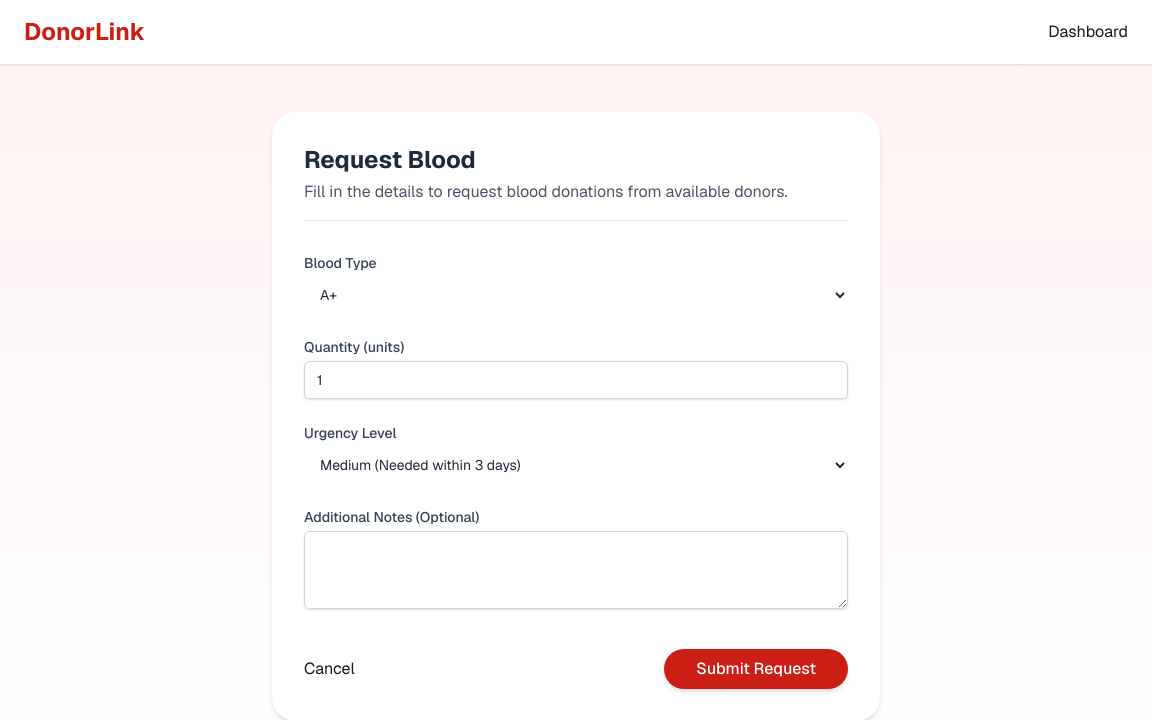
Scenario: RequestBloodPage › handles missing user fields
# Submit the form
Step 1. Click the button "Submit Request" → (756, 669), box [664,649,848,689]
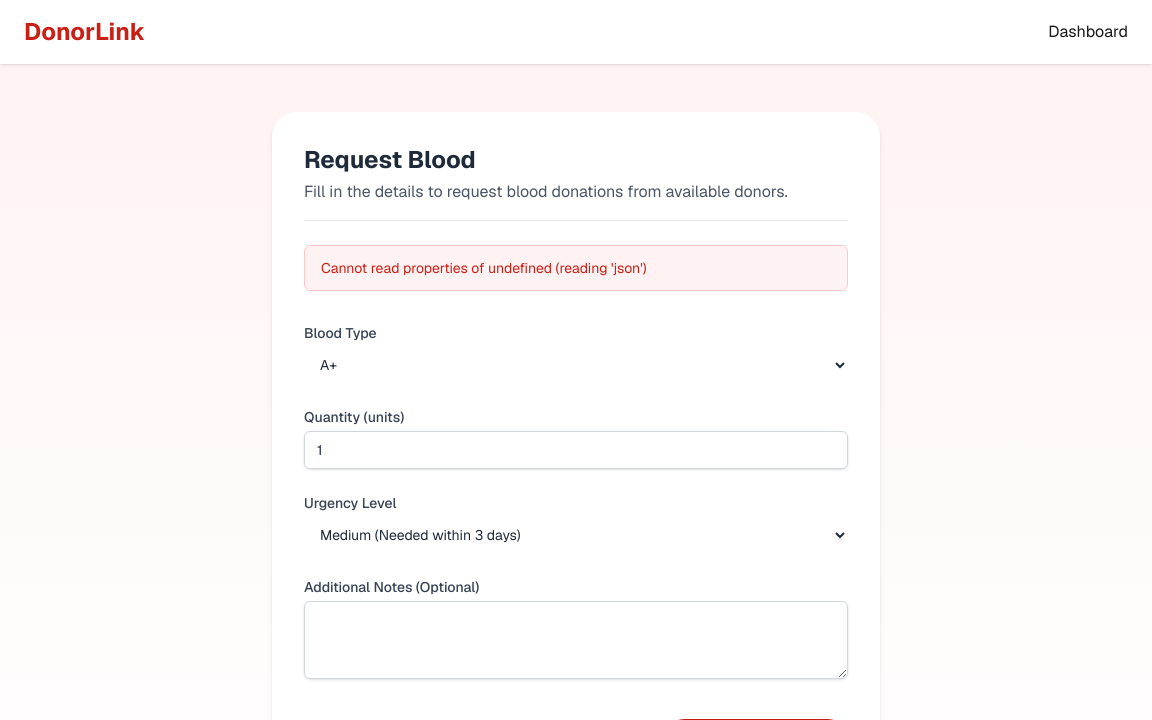
Check: the text "Cannot read properties of undefined (reading 'json')" is shown, box [304,245,848,291]
